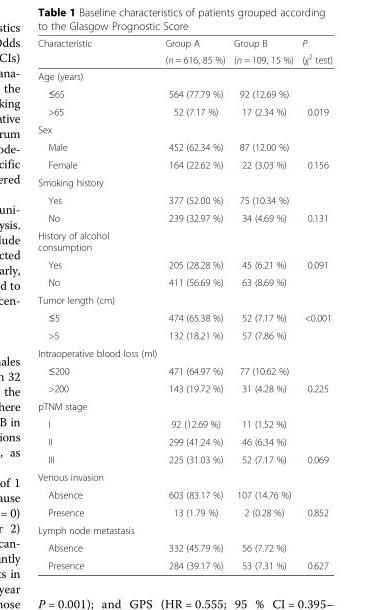table: (37, 37, 331, 570)
table column: (37, 37, 160, 570), (228, 37, 297, 570), (160, 37, 228, 570), (297, 37, 331, 570)
table column header: (37, 37, 331, 67)
table projected row header: (37, 226, 331, 255), (37, 290, 331, 308), (37, 343, 331, 361), (37, 467, 331, 485), (37, 520, 331, 538), (37, 67, 331, 84), (37, 120, 331, 137), (37, 173, 331, 190), (37, 397, 331, 414)
table row: (37, 226, 331, 255), (37, 84, 331, 102), (37, 102, 331, 120), (37, 137, 331, 155), (37, 155, 331, 173), (37, 190, 331, 208), (37, 208, 331, 226), (37, 255, 331, 273), (37, 290, 331, 308), (37, 308, 331, 326), (37, 343, 331, 361), (37, 361, 331, 379), (37, 379, 331, 397), (37, 414, 331, 432), (37, 432, 331, 450), (37, 467, 331, 485), (37, 485, 331, 503), (37, 520, 331, 538), (37, 538, 331, 556), (37, 50, 331, 67), (37, 67, 331, 84), (37, 120, 331, 137), (37, 173, 331, 190), (37, 273, 331, 290), (37, 326, 331, 343), (37, 397, 331, 414), (37, 450, 331, 467), (37, 503, 331, 520), (37, 556, 331, 570), (37, 37, 331, 50)
table spanning cell: (37, 37, 160, 67), (228, 37, 297, 67), (160, 37, 228, 67), (297, 37, 331, 67)
